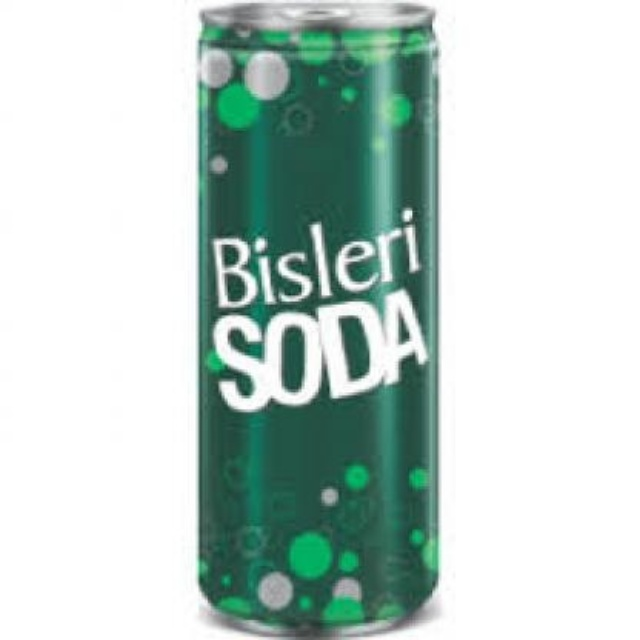trash: (198, 2, 437, 631)
